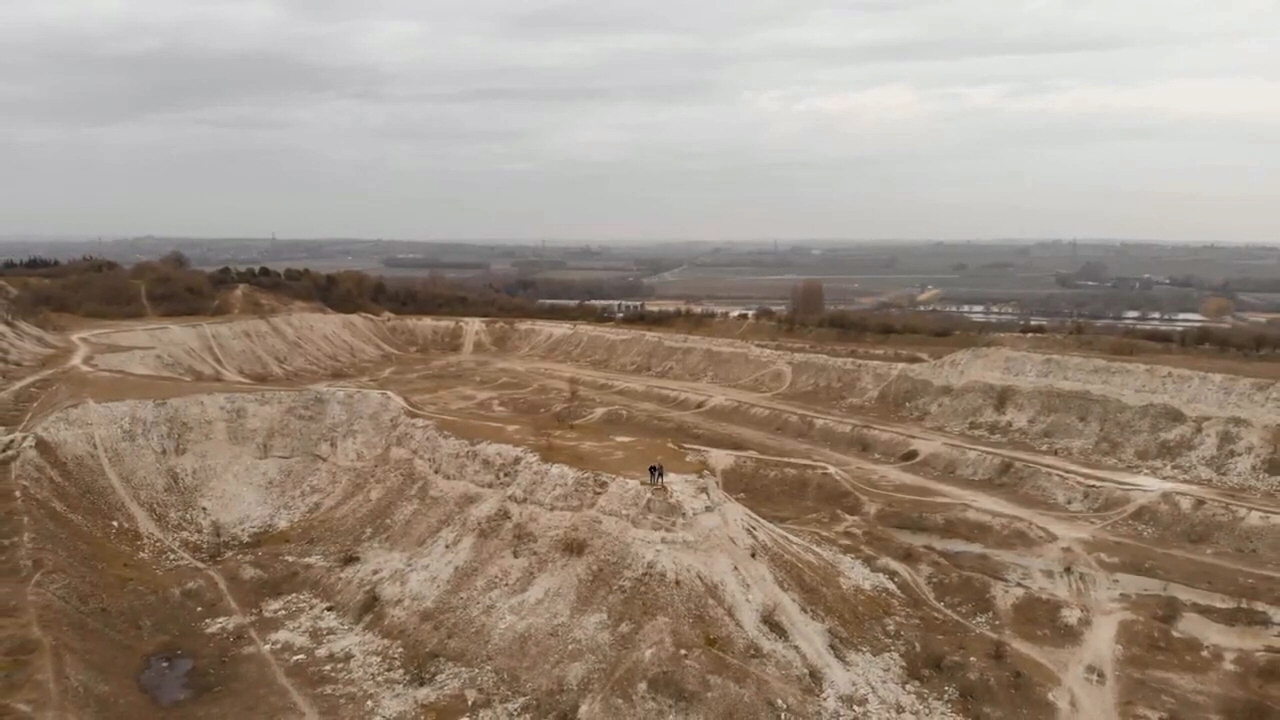insan: (656, 459, 668, 493), (646, 458, 659, 485)
